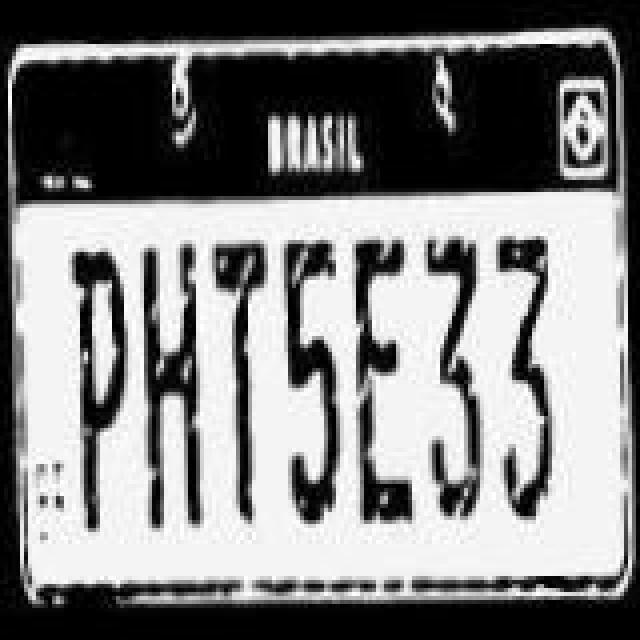3: (420, 232, 484, 520), (492, 232, 556, 520)
5: (284, 238, 344, 526)
E: (354, 232, 414, 520)
H: (142, 244, 206, 532)
P: (66, 244, 130, 532)
T: (212, 240, 272, 528)
